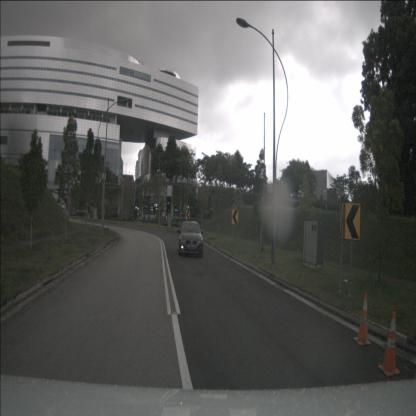movable_object-trafficcone: (378, 312, 400, 376), (354, 294, 371, 346)
vehicle-car: (179, 221, 203, 256)
